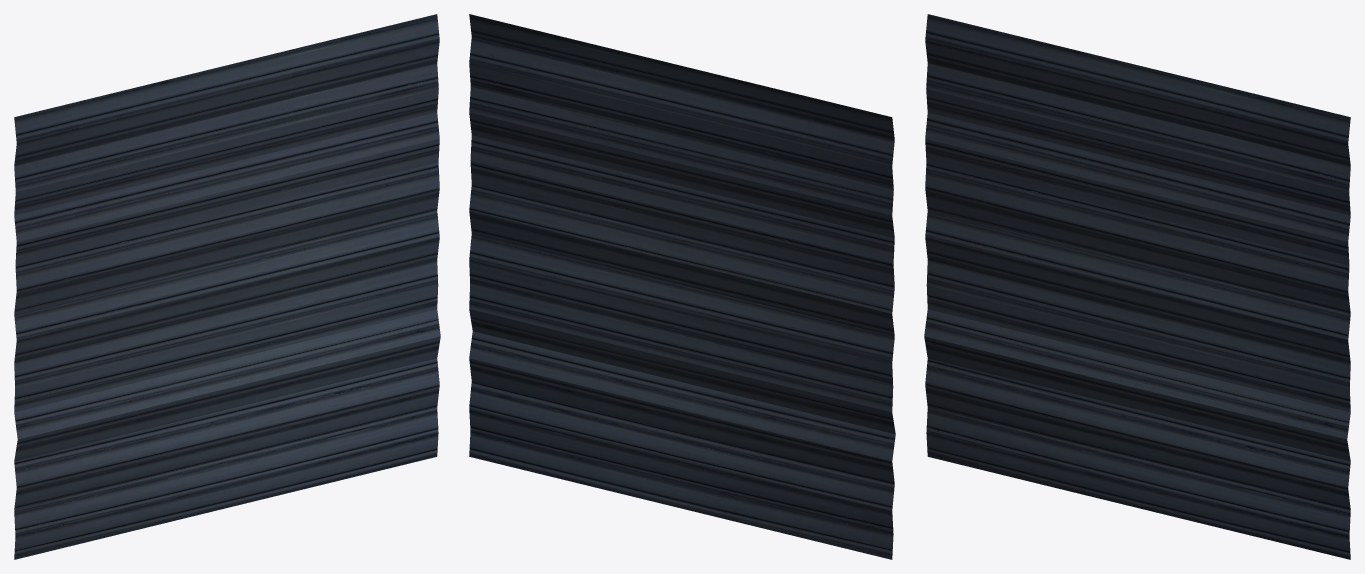
File: metal_wall.fbx
3 views of the same model, side by side, from view 1: azimuth 30°, elevation 25°; view 2: azimuth 150°, elevation 25°; view 3: azimuth 330°, elevation 25° (orthographic).
Parts seen in each view (by area): view 1: Plane; view 2: Plane; view 3: Plane.
Part boxes in pixels (x1,y1,x2,y2): Plane: (14, 14, 440, 559); Plane: (469, 14, 895, 559); Plane: (924, 14, 1350, 559).
Bounding box in the file's own units: 2.87 × 200 × 200.
Materials: 1 (1 with a texture image).
